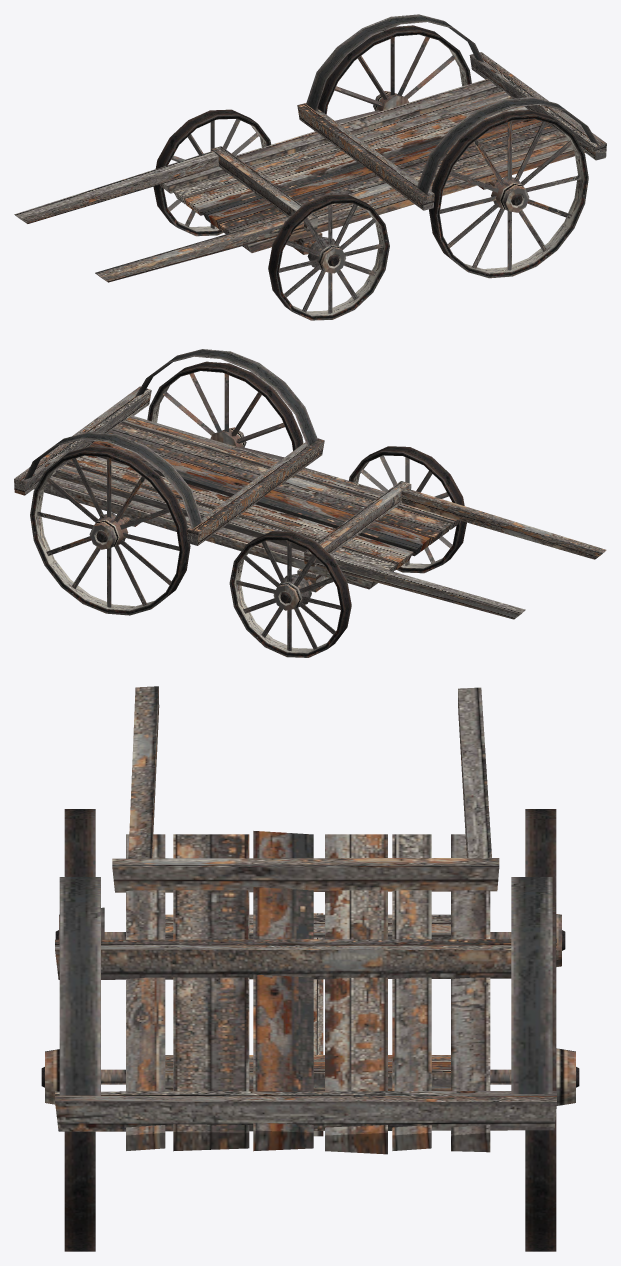
File: Cart_v2_M2.gltf
The picture shows the model from 3 angles, top to bottom: view 1: azimuth 30°, elevation 25°; view 2: azimuth 150°, elevation 25°; view 3: azimuth 270°, elevation 25°; orthographic projection. The views are drawn at different scales.
Parts seen in each view (by area): view 1: Cart_v2_M2(Clone); view 2: Cart_v2_M2(Clone); view 3: Cart_v2_M2(Clone).
Part boxes in pixels (bbox=[...]): Cart_v2_M2(Clone): bbox=[14, 14, 606, 320]; Cart_v2_M2(Clone): bbox=[14, 349, 606, 657]; Cart_v2_M2(Clone): bbox=[41, 686, 579, 1251].
Bounding box in the file's own units: 3.3 × 1.08 × 1.55.
Materials: 1 (1 with a texture image).
